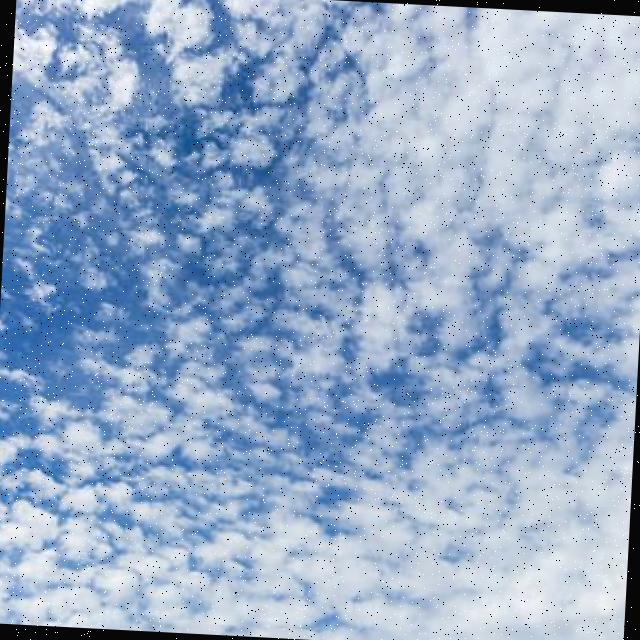Cc: (1, 1, 640, 640)
